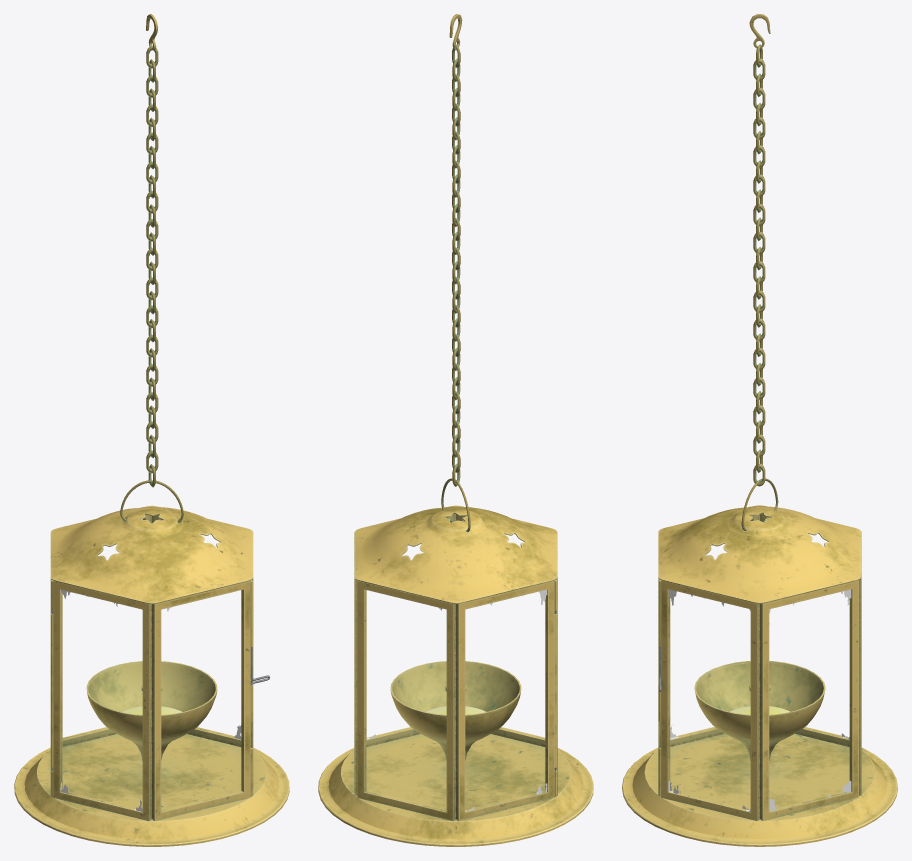
Rendered from lamp_18.fbx.
The picture shows the model from 3 angles, left to right: view 1: azimuth 30°, elevation 25°; view 2: azimuth 150°, elevation 25°; view 3: azimuth 270°, elevation 25°; orthographic projection.
Visible parts, largest first — view 1: lantern; view 2: lantern; view 3: lantern.
Part boxes in pixels (<box>): lantern: <box>14,14,289,846</box>; lantern: <box>318,14,593,846</box>; lantern: <box>622,14,897,846</box>.
Bounding box in the file's own units: 12.3 × 38.08 × 12.3.
